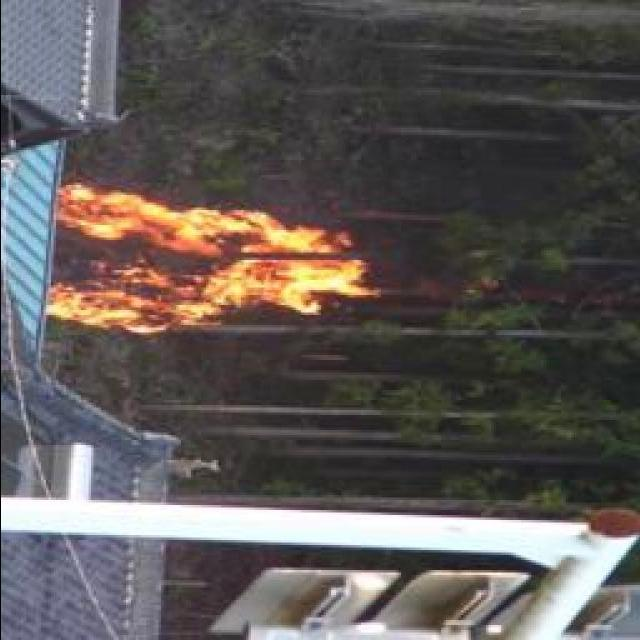Fire: (39, 182, 360, 334)
